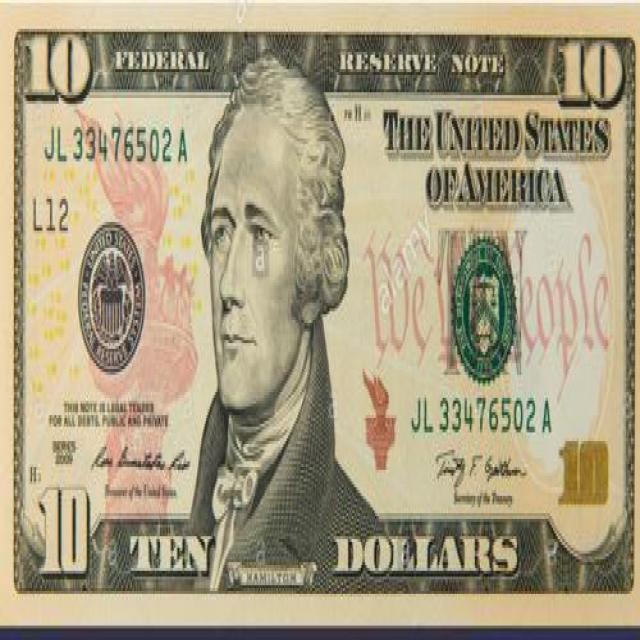10-Front: (0, 3, 640, 620)
